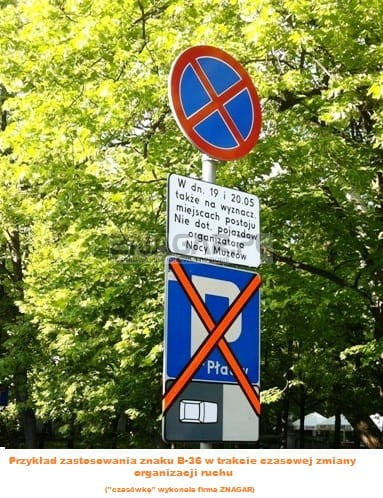no_stopping_sign: (167, 45, 262, 161)
